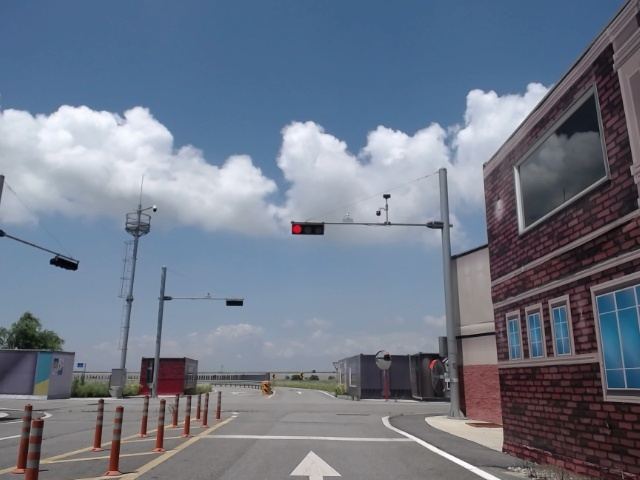red_3: (291, 221, 325, 235)
